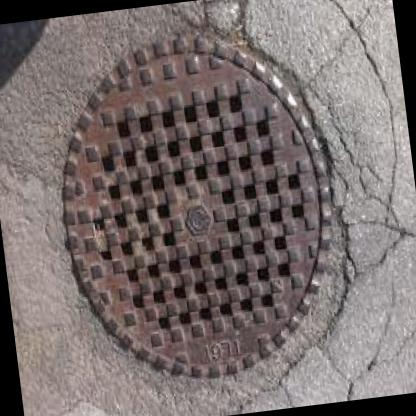manholes: (11, 0, 378, 410)
